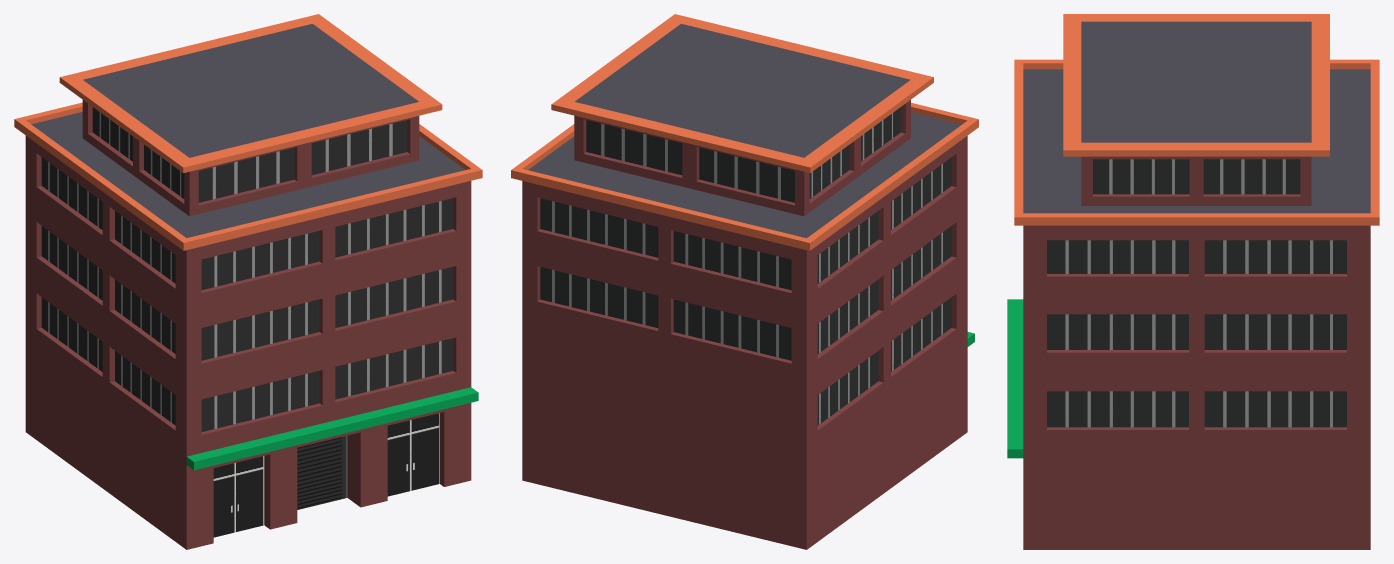
Rendered from building15c.FBX.
The picture shows the model from 3 angles, left to right: view 1: azimuth 30°, elevation 25°; view 2: azimuth 150°, elevation 25°; view 3: azimuth 270°, elevation 25°; orthographic projection. The views are drawn at different scales.
Parts seen in each view (by area): view 1: building15c; view 2: building15c; view 3: building15c.
Part boxes in pixels (x1,y1,x2,y2): building15c: (14,14,482,549); building15c: (511,14,978,549); building15c: (1007,14,1379,549).
Size of the model in its own units: 21.01 by 24.51 by 20.98.
